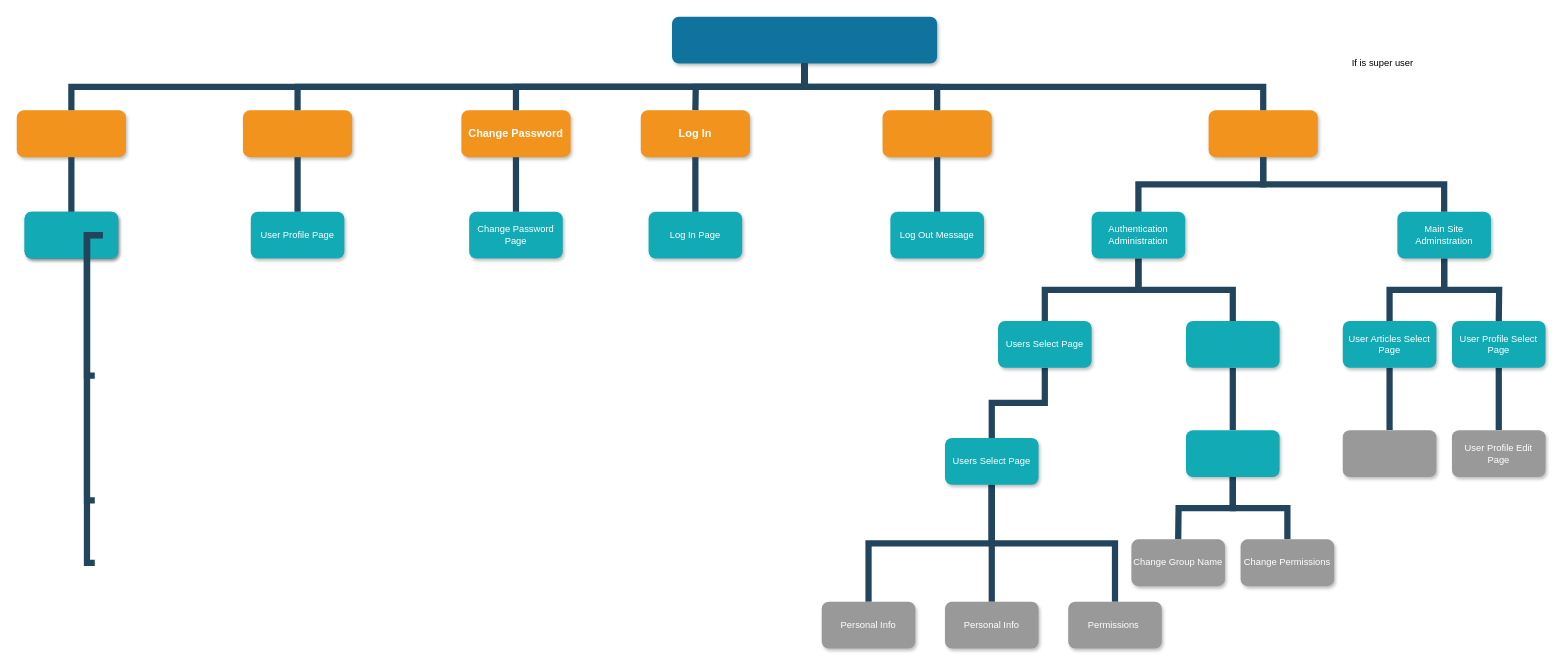
The diagram is 1563 pixels wide and 667 high, and some of its shapes have lost their labels. Here are the shapes that lost their labels. From the top down, the centre of each, then its label:
At [804,41]: "Main Site".
At [71,134]: "Post Aritcle".
At [297,134]: "User Profile".
At [937,134]: "Log Out".
At [1263,134]: "Admin Page".
At [71,236]: "Post Article Page".
At [1233,345]: "Groups Select Page".
At [1233,454]: "Groups Edit Page".
At [1390,454]: "Article Edit Page".
